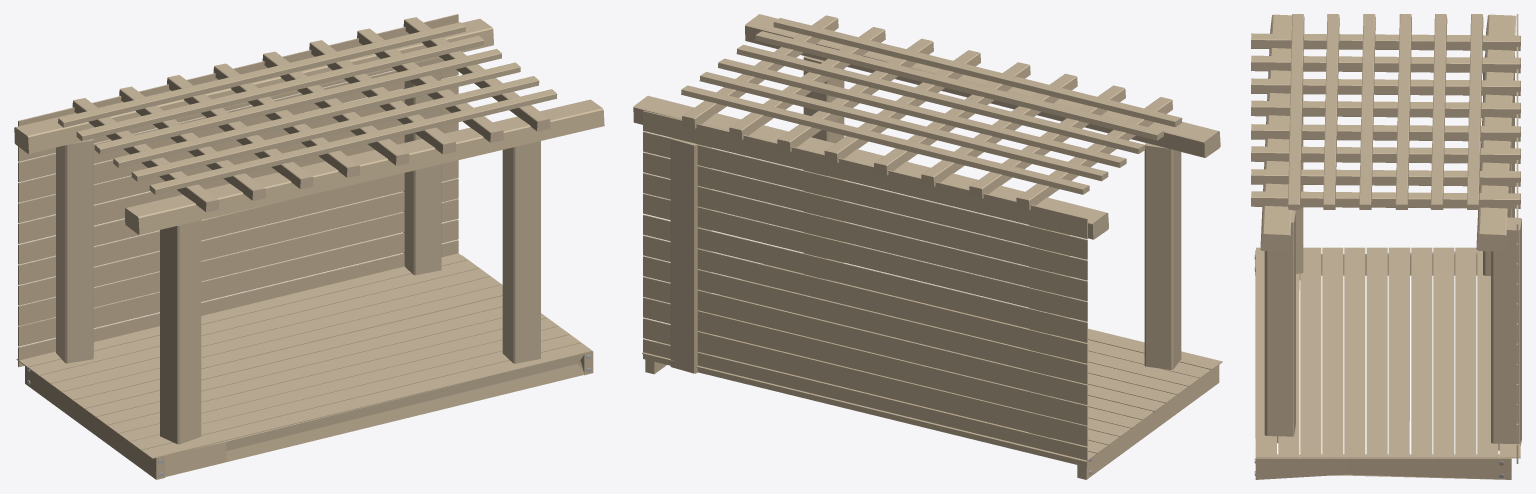
Rendered from Patio_Gazeebo.fbx.
The picture shows the model from 3 angles, left to right: view 1: azimuth 30°, elevation 25°; view 2: azimuth 150°, elevation 25°; view 3: azimuth 270°, elevation 25°; orthographic projection. The views are drawn at different scales.
Parts seen in each view (by area): view 1: Patio_Gazeebo; view 2: Patio_Gazeebo; view 3: Patio_Gazeebo.
Boxes of the visible parts, x1,y1,x2,y2 form: Patio_Gazeebo: [14, 14, 604, 479]; Patio_Gazeebo: [633, 14, 1222, 479]; Patio_Gazeebo: [1251, 14, 1521, 479].
Size of the model in its own units: 507 by 264 by 286.
